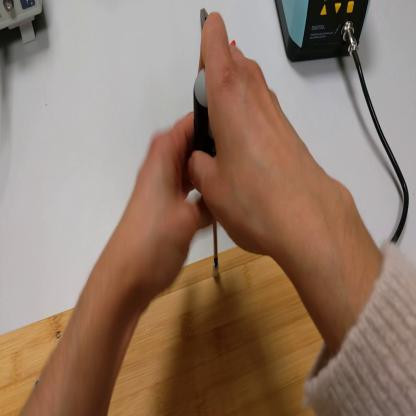hand: (189, 10, 307, 261), (122, 118, 213, 303)
oscilloscope: (2, 1, 44, 47)
pliers: (203, 7, 238, 52)
screwdriver-: (195, 72, 221, 268)
welder station: (275, 1, 372, 60)
working area: (2, 246, 325, 415)
